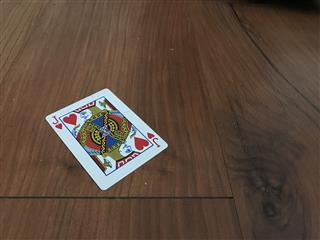JackOfHearts: (44, 87, 168, 190)
